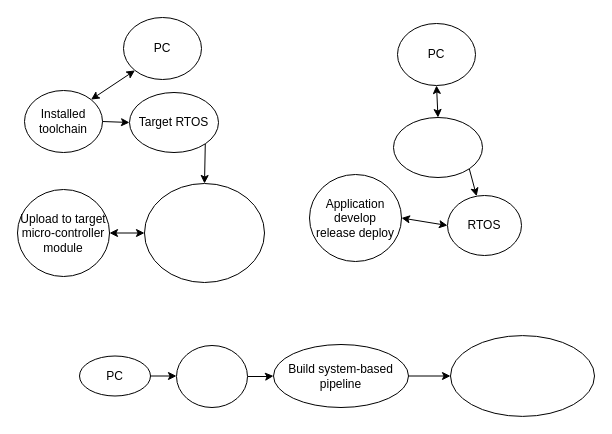
The diagram is 612 pixels wide and 434 high, and some of its shapes have lost their labels. Here are the shapes that lost their labels. From the top down, the centre of each, then its label:
At point 437,147: "Virtualization QEMU,VBox".
At point 204,232: "C,inline assembler, assembler according to Instrruction set".
At point 212,376: "RTOS Application".
At point 522,375: "Upload to multiple micro-controller boards".
